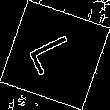L_NE: (26, 30, 84, 80)
